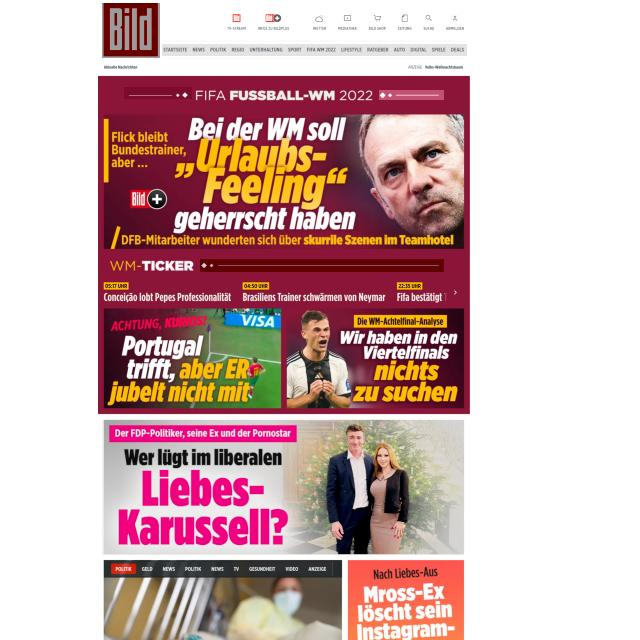accordion: (200, 259, 444, 272), (124, 87, 192, 99), (379, 90, 444, 100)
copy: (102, 420, 464, 555)
date picker: (102, 4, 160, 59)
decoration: (227, 10, 466, 34), (162, 44, 467, 56), (112, 562, 334, 576)
